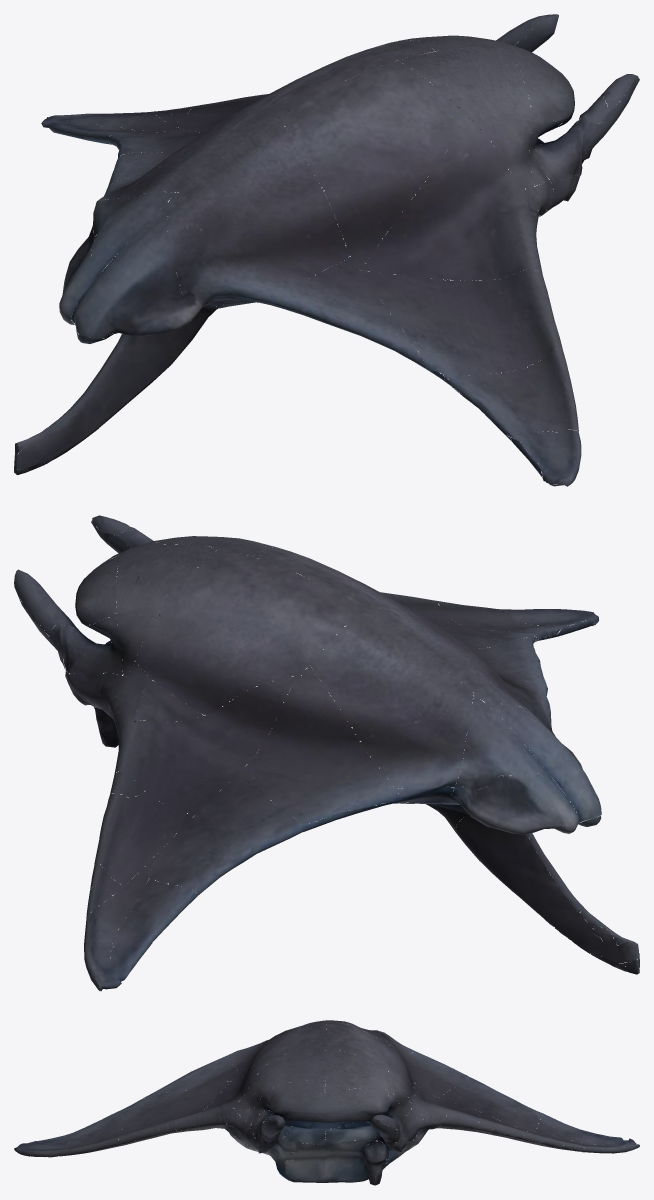
The model's file is manta.glb.
3 renders of one model, top to bottom at view 1: azimuth 30°, elevation 25°; view 2: azimuth 150°, elevation 25°; view 3: azimuth 270°, elevation 25°, orthographic. The views are drawn at different scales.
Visible parts, largest first — view 1: tripo_node_7759ea19-f2f0-4511-b7da-e0b56bb036a9; view 2: tripo_node_7759ea19-f2f0-4511-b7da-e0b56bb036a9; view 3: tripo_node_7759ea19-f2f0-4511-b7da-e0b56bb036a9.
Boxes of the visible parts, <box> form: tripo_node_7759ea19-f2f0-4511-b7da-e0b56bb036a9: <box>14,14,639,486</box>; tripo_node_7759ea19-f2f0-4511-b7da-e0b56bb036a9: <box>14,515,639,991</box>; tripo_node_7759ea19-f2f0-4511-b7da-e0b56bb036a9: <box>14,1020,639,1185</box>.
Size of the model in its own units: 1 by 0.5272 by 1.5.
Materials: 1 (1 with a texture image).
